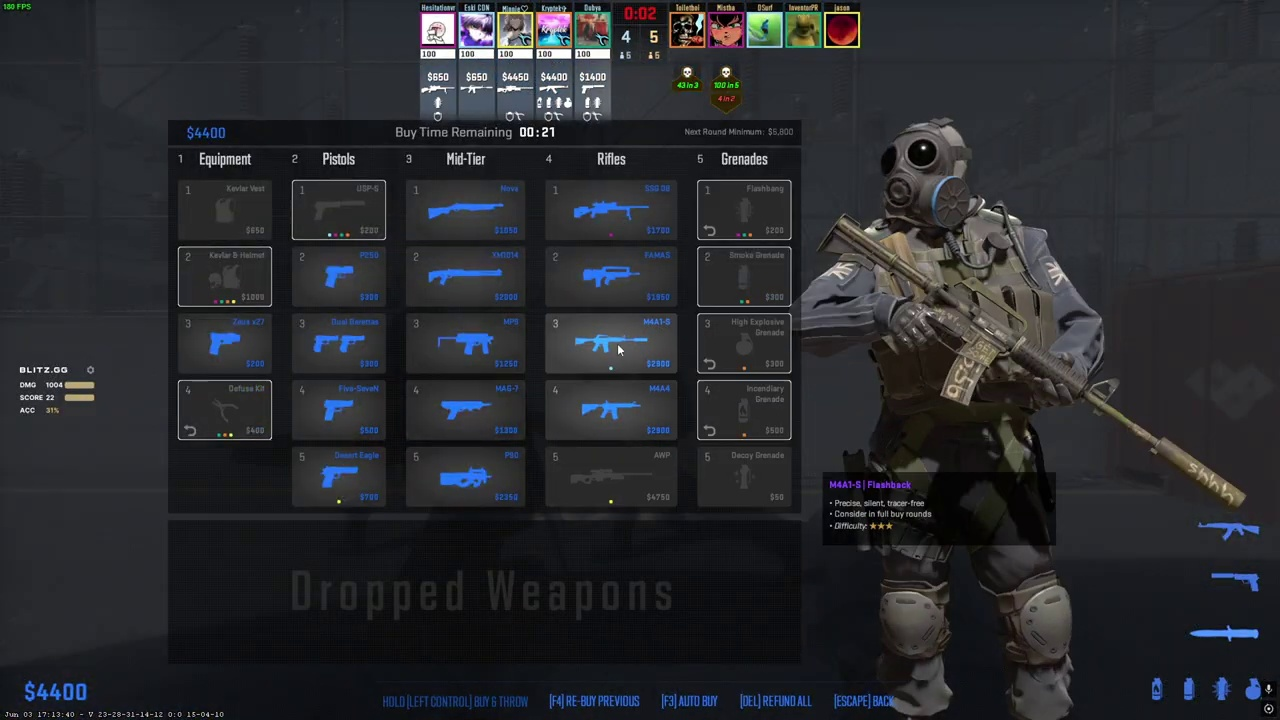CT: (853, 123, 1089, 720)
